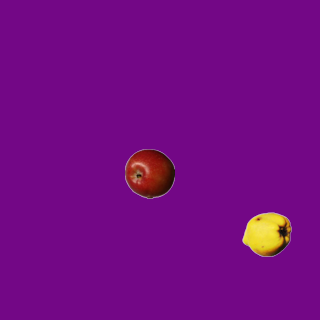Apple Braeburn: (124, 148, 174, 198)
Quince: (241, 209, 291, 259)
